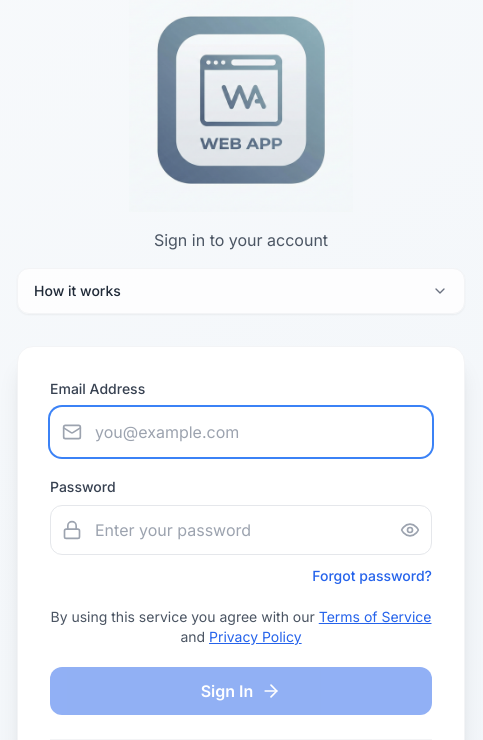
Test: AuthPage — sign-in mode (default) › sign-in button enables when email and password entered
Type "user@test.com" into the field with placeholder "you@example.com" at (241, 432), box [50,407,432,457]
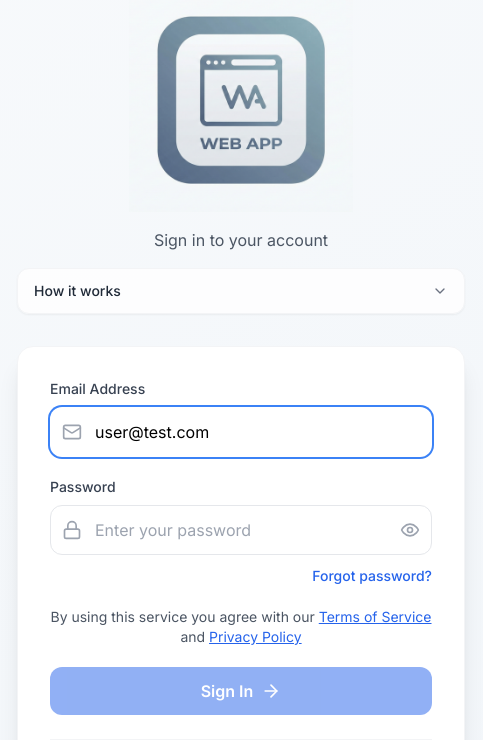
Type "pass123" into the password field with placeholder "Enter your password" at (241, 530), box [50,505,432,555]
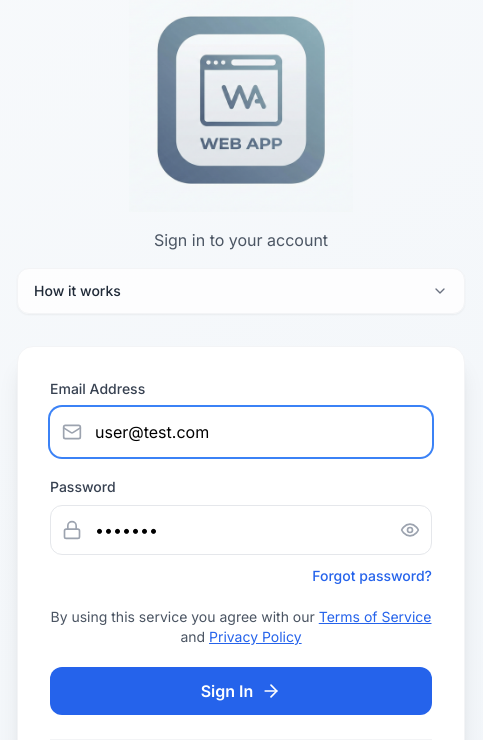
Result: the button "Sign In" is enabled at [50,667,432,715]
